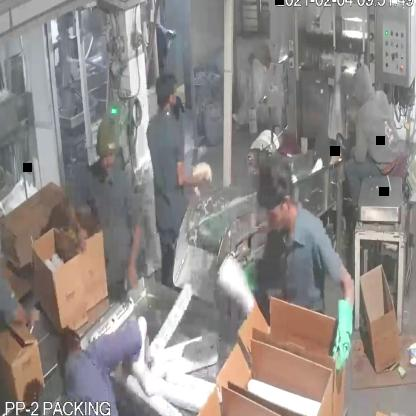glove: (327, 284, 358, 380)
no_glove: (118, 205, 150, 302), (60, 186, 93, 269), (6, 282, 40, 354), (172, 156, 211, 198)
